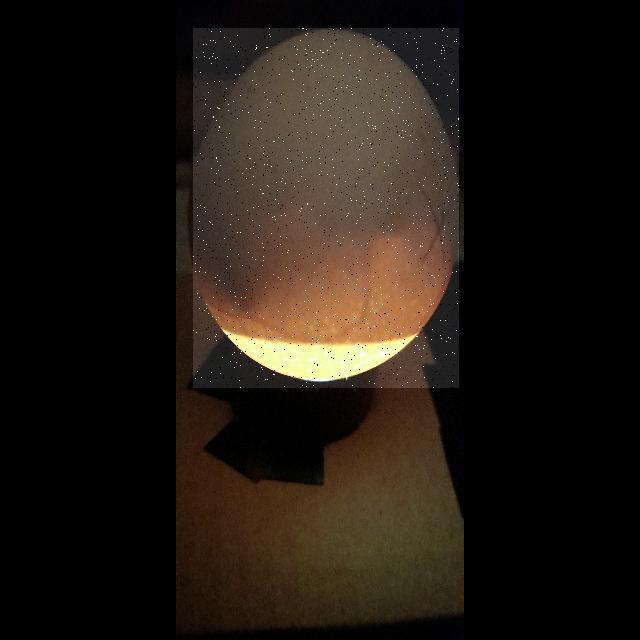Fertile: (193, 28, 459, 388)
